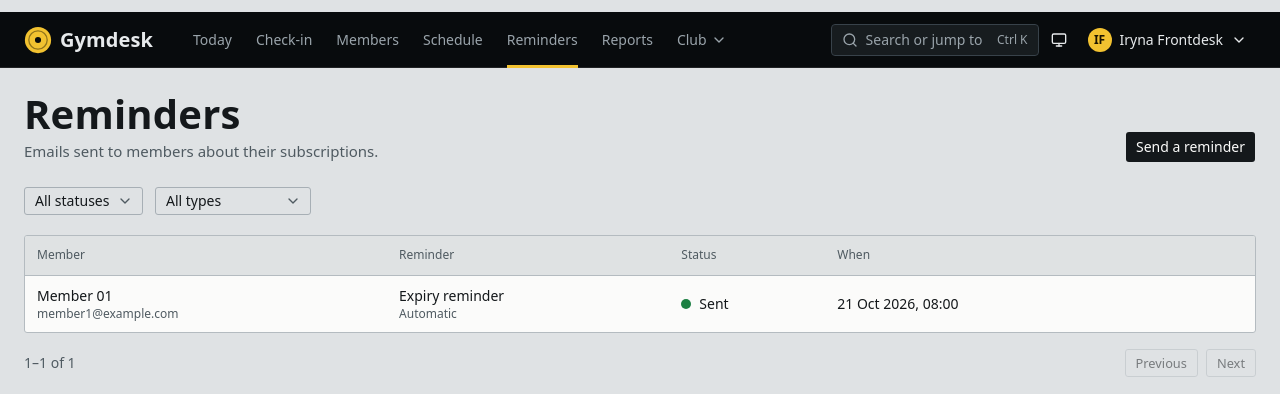
Scenario: filters and pages › filters by type and says when nothing matches
The width and height of the screenshot is (1280, 394).
Expected: the heading "Reminders" is shown, [24, 86, 241, 141]
Expected: the link "Member 01" is shown, [37, 286, 113, 305]
Select "Promotions" in the dropdown named "Type" at (233, 200), box [155, 186, 311, 214]
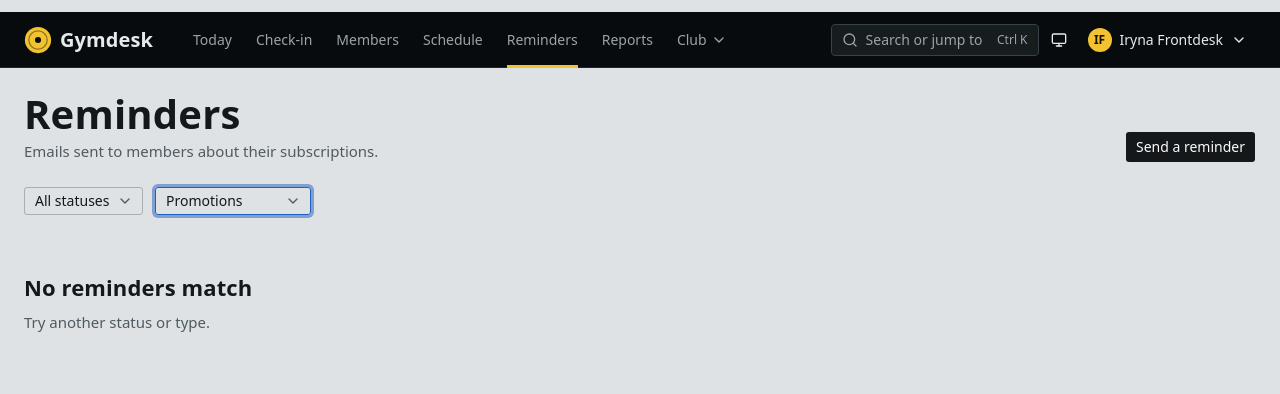
Expected: the heading "No reminders match" is shown, [24, 274, 252, 299]
